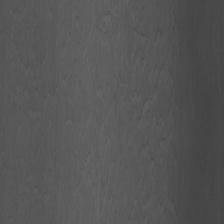silk_spot: (63, 46, 120, 162), (122, 36, 163, 129), (135, 131, 178, 203), (80, 8, 116, 34)
